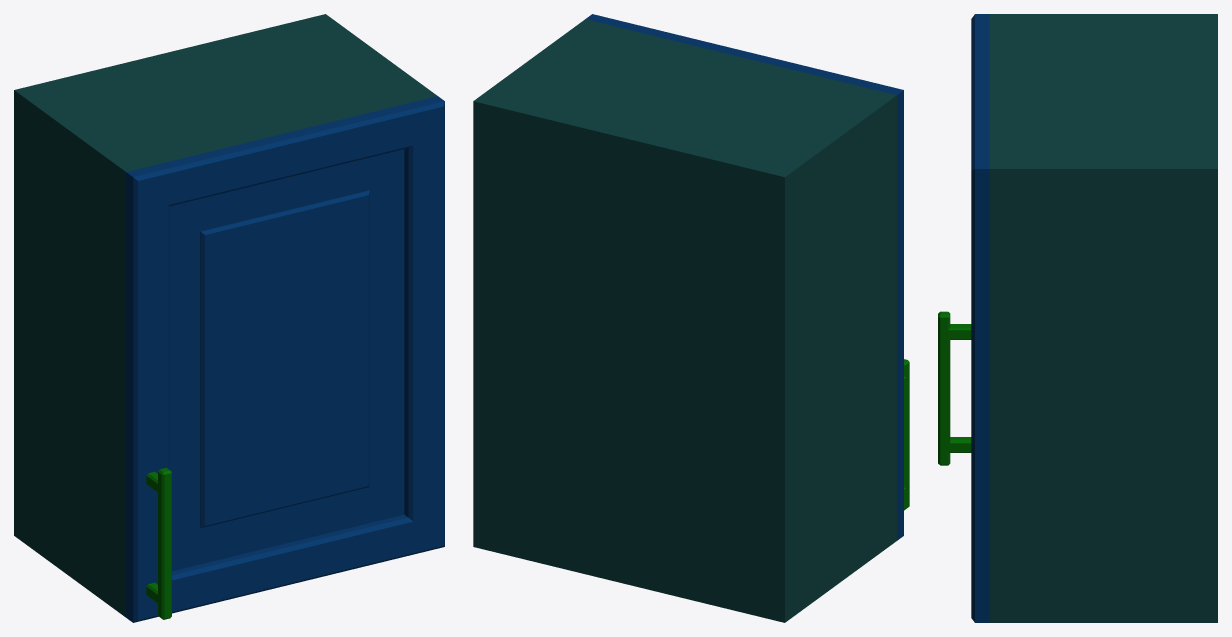
The model's file is Kitchen_Furniture_Cabinet.fbx.
3 views of the same model, side by side, from view 1: azimuth 30°, elevation 25°; view 2: azimuth 150°, elevation 25°; view 3: azimuth 270°, elevation 25° (orthographic).
Parts seen in each view (by area): view 1: Door_and_handle1, Body2; view 2: Body2, Door_and_handle1; view 3: Body2, Door_and_handle1.
Boxes of the visible parts, left/top/right/bottom form: Door_and_handle1: left=126, top=96, right=444, bottom=622; Body2: left=14, top=14, right=437, bottom=617; Body2: left=473, top=19, right=896, bottom=622; Door_and_handle1: left=585, top=14, right=909, bottom=540; Body2: left=989, top=14, right=1217, bottom=622; Door_and_handle1: left=938, top=14, right=989, bottom=622.
Bounding box in the file's own units: 60.01 × 82 × 45.78.
